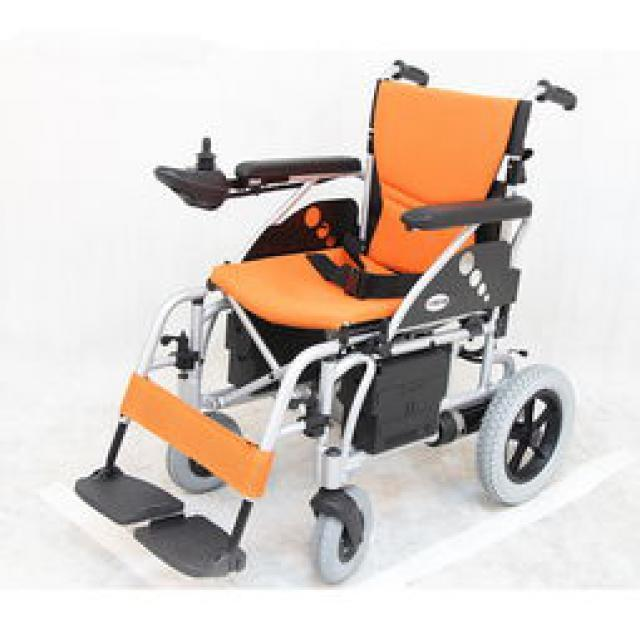wheelchair: (53, 53, 600, 595)
